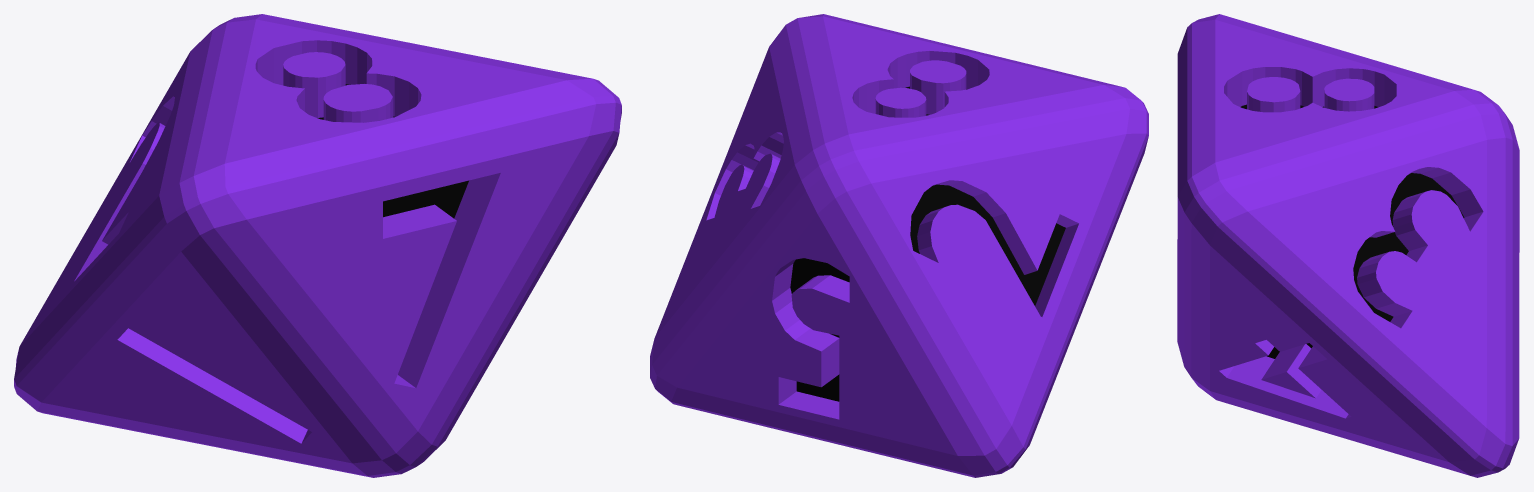
The picture shows the model from 3 angles, left to right: view 1: azimuth 30°, elevation 25°; view 2: azimuth 150°, elevation 25°; view 3: azimuth 270°, elevation 25°; orthographic projection. The views are drawn at different scales.
Visible parts, largest first — view 1: D8; view 2: D8; view 3: D8.
Boxes of the visible parts, <box> form: D8: <box>14,14,621,477</box>; D8: <box>650,14,1148,477</box>; D8: <box>1177,14,1519,477</box>.
Bounding box in the file's own units: 21.18 × 16.12 × 16.12.
